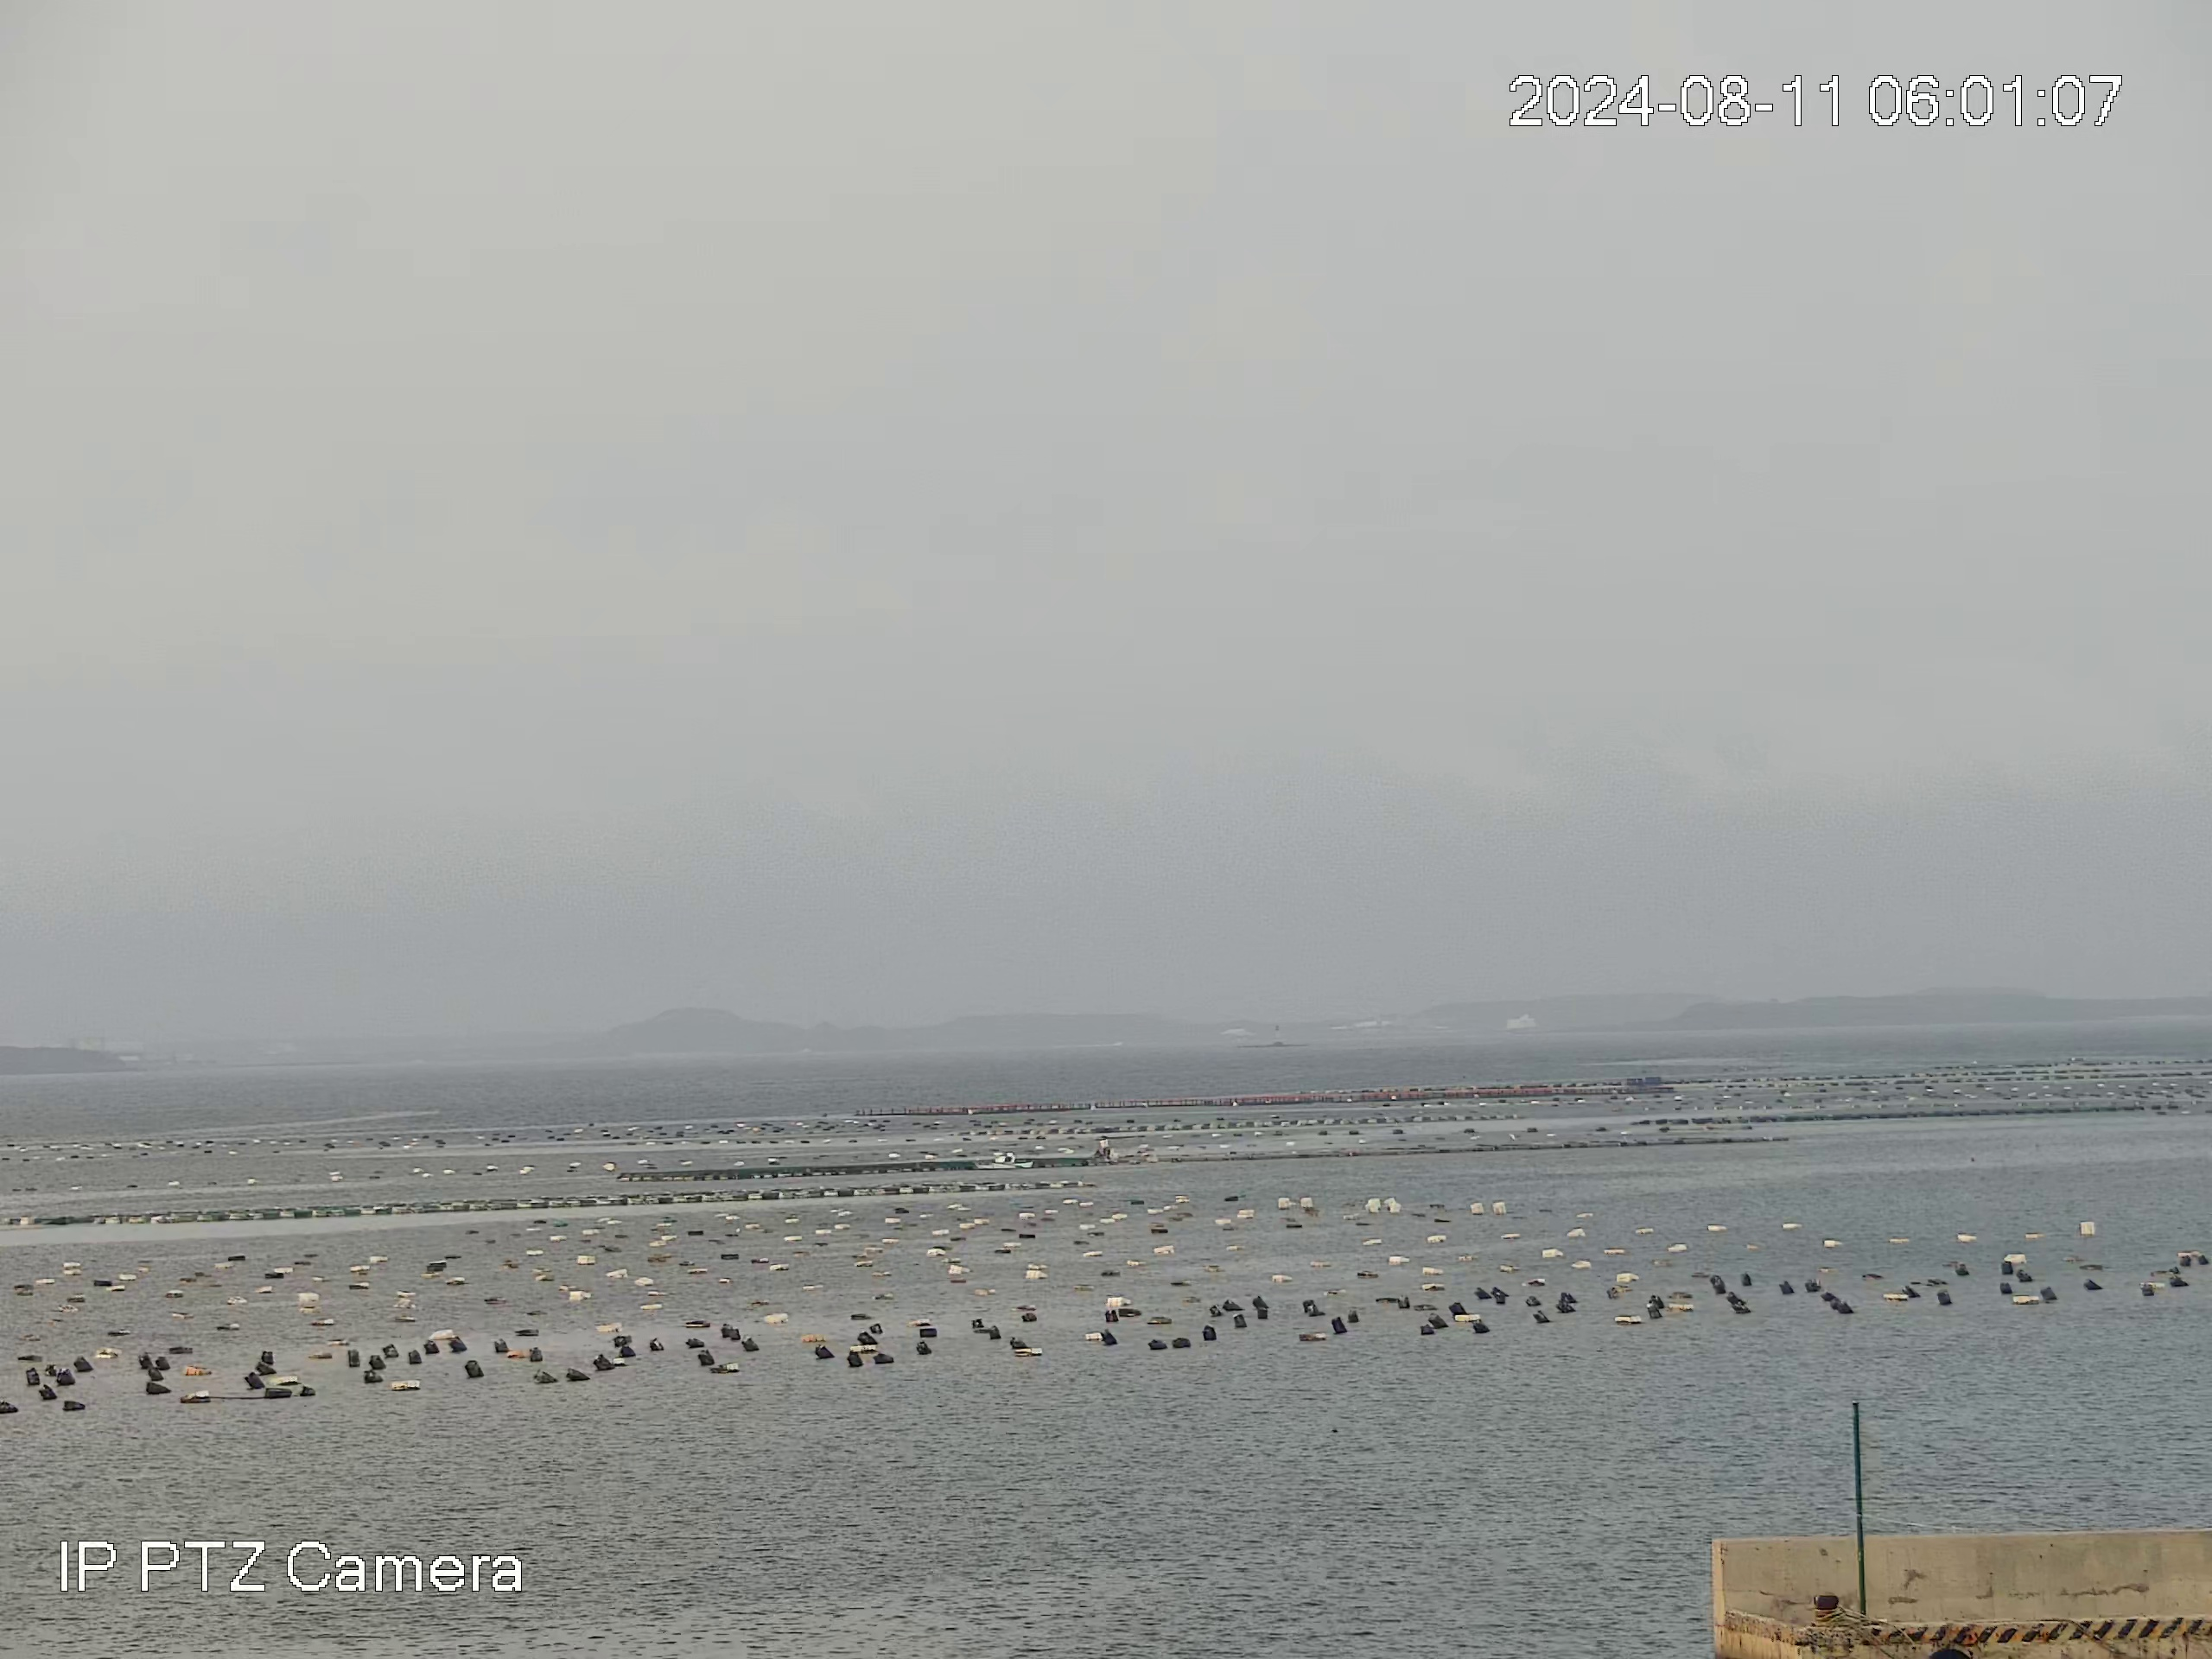boat: (970, 1150, 1036, 1169)
